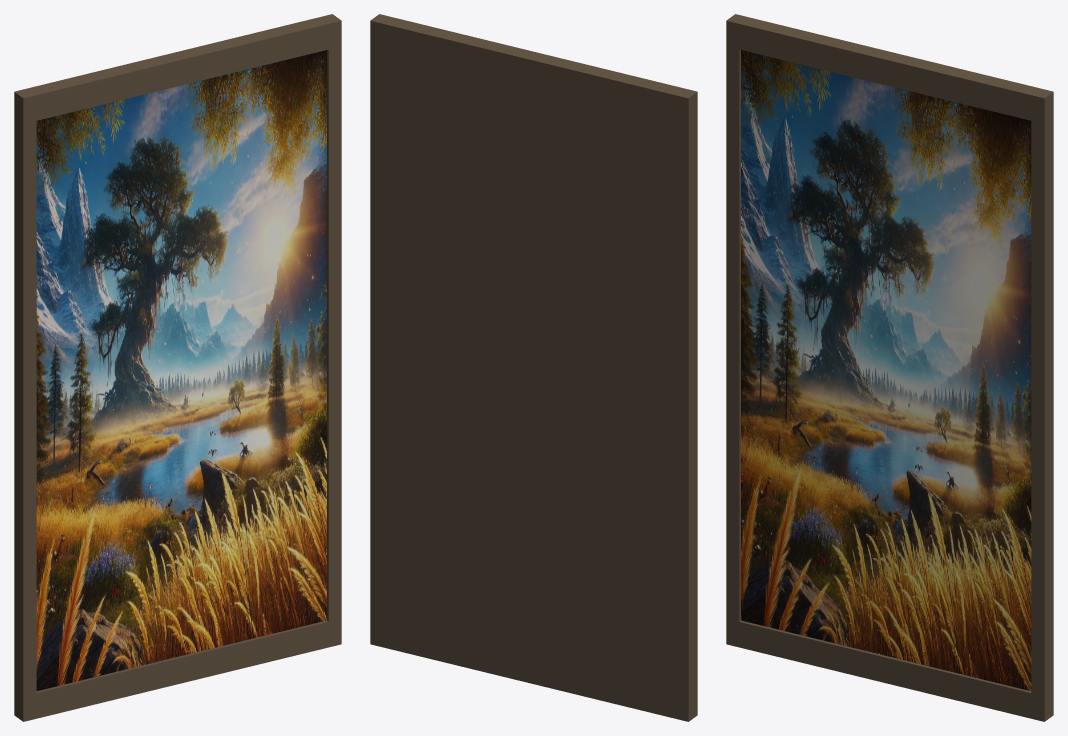
File: picture3.fbx
The picture shows the model from 3 angles, left to right: view 1: azimuth 30°, elevation 25°; view 2: azimuth 150°, elevation 25°; view 3: azimuth 330°, elevation 25°; orthographic projection.
Visible parts, largest first — view 1: Painting; view 2: Painting; view 3: Painting.
Part boxes in pixels (box(x1,y1,x2,y2)): Painting: box(14, 14, 341, 721); Painting: box(370, 14, 697, 721); Painting: box(726, 14, 1053, 721).
Size of the model in its own units: 222 by 416 by 11.11.
